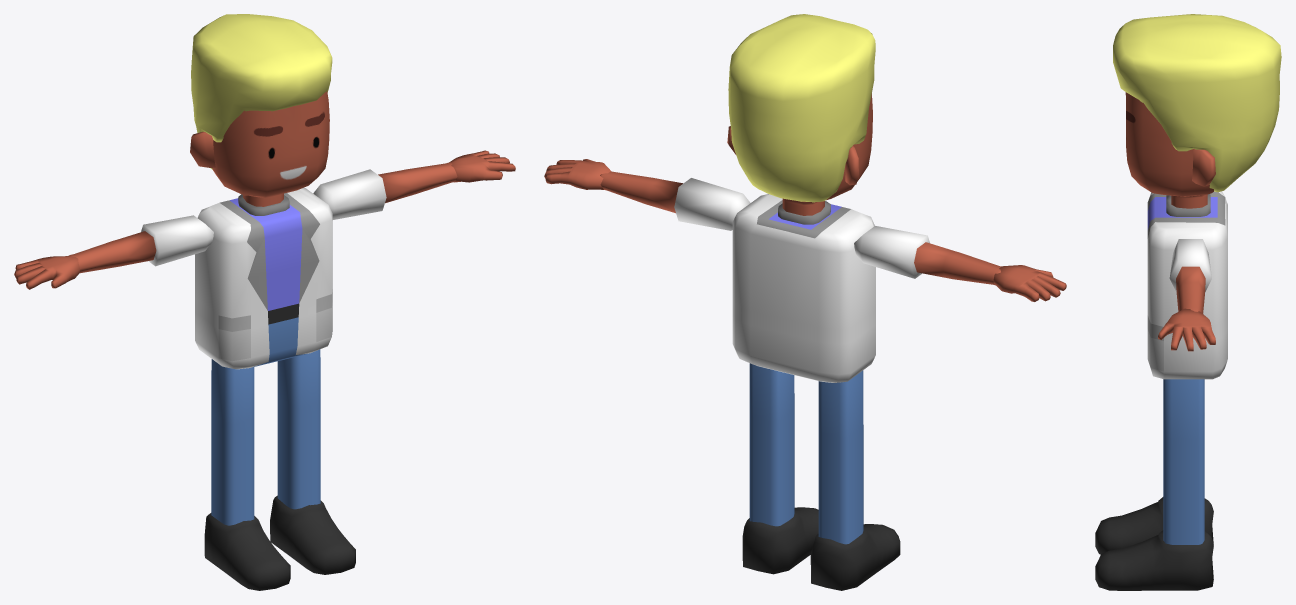
The model's file is NPC_Black02_BlondeHair06.gltf.
3 renders of one model, left to right at view 1: azimuth 30°, elevation 25°; view 2: azimuth 150°, elevation 25°; view 3: azimuth 270°, elevation 25°, orthographic. The views are drawn at different scales.
Parts seen in each view (by area): view 1: NPC_Corpo_Black2_BlondeHair.006; view 2: NPC_Corpo_Black2_BlondeHair.006; view 3: NPC_Corpo_Black2_BlondeHair.006.
Part boxes in pixels (box(x1,y1,x2,y2)): NPC_Corpo_Black2_BlondeHair.006: box(14, 14, 515, 590); NPC_Corpo_Black2_BlondeHair.006: box(544, 14, 1066, 590); NPC_Corpo_Black2_BlondeHair.006: box(1095, 14, 1281, 590).
Size of the model in its own units: 2.31 by 2.31 by 0.7282.
1 material, 1 textured.
